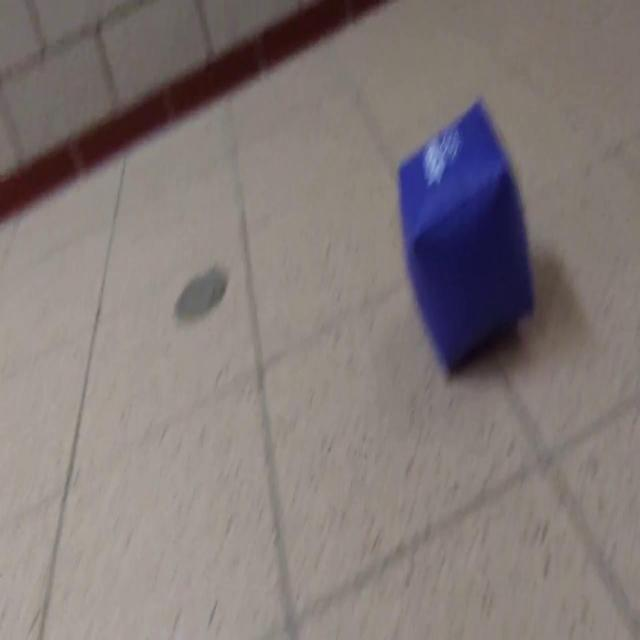frc_cube: (396, 104, 534, 373)
